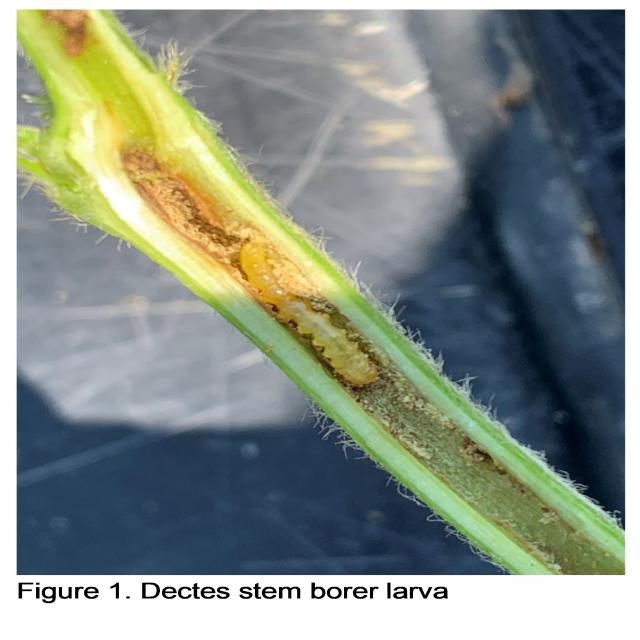cornborer-Larva-: (229, 226, 390, 392)
